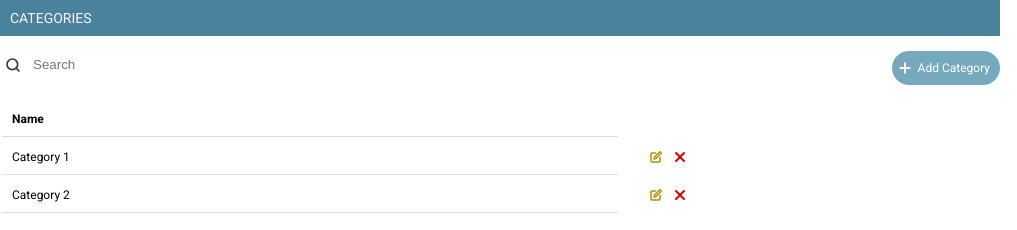
Test: DetailsPanel component › filters data by search term
The width and height of the screenshot is (1017, 230).
Expected: the text "Category 1" is shown, [2,139,618,175]
Expected: the text "Category 2" is shown, [2,177,618,213]
# Filtrar per terme de cerca
Type "Category 1" into the field with placeholder "Search". click: (313, 64)
box: [31,56,595,73]
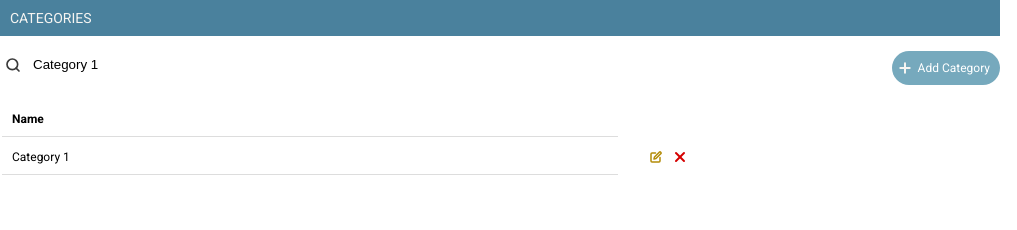
Expected: the text "Category 1" is shown, [2,139,618,175]
Expected: the text "Category 2" is gone
